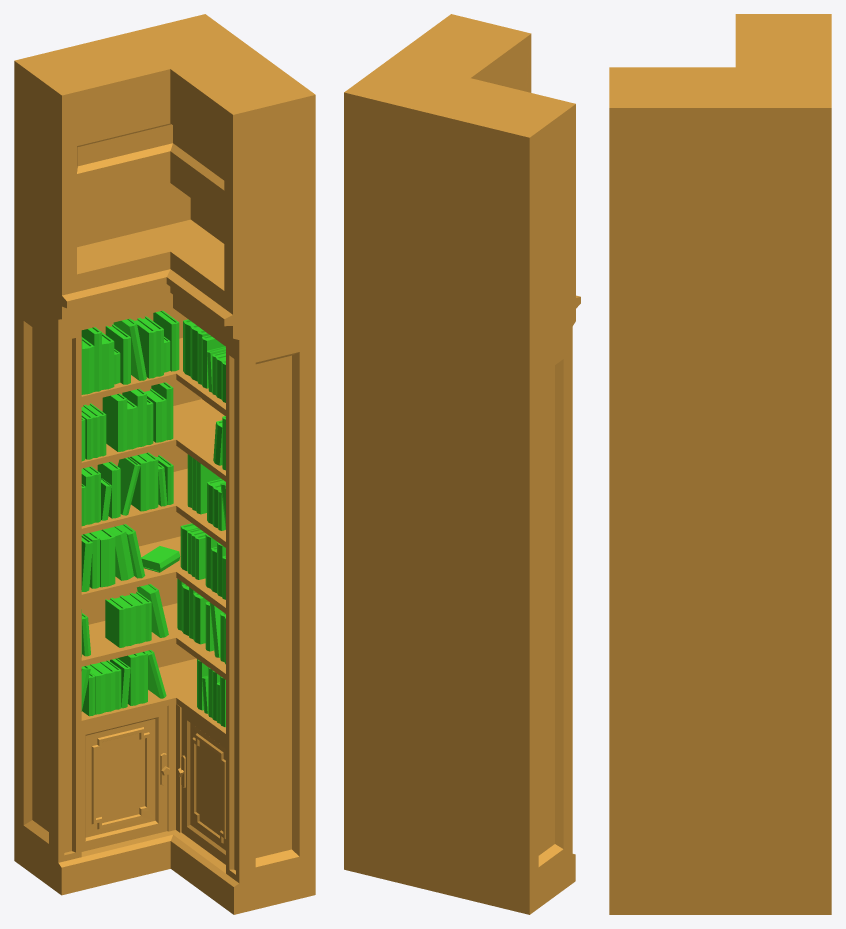
Rendered from SM_Bookcase_Tall_Modular_Cabinet_Filled_Corner_Inner.fbx.
3 views of the same model, side by side, from view 1: azimuth 30°, elevation 25°; view 2: azimuth 150°, elevation 25°; view 3: azimuth 270°, elevation 25° (orthographic). The views are drawn at different scales.
Parts seen in each view (by area): view 1: library-tall-modular-cabinet-filled-corner-inner-base, library-tall-modular-cabinet-filled-corner-inner-door-l, library-tall-modular-cabinet-filled-corner-inner-door-r; view 2: library-tall-modular-cabinet-filled-corner-inner-base; view 3: library-tall-modular-cabinet-filled-corner-inner-base.
Boxes of the visible parts, x1,y1,x2,y2 form: library-tall-modular-cabinet-filled-corner-inner-base: (14,14,315,914); library-tall-modular-cabinet-filled-corner-inner-door-l: (81,706,169,851); library-tall-modular-cabinet-filled-corner-inner-door-r: (176,708,225,864); library-tall-modular-cabinet-filled-corner-inner-base: (344,14,580,914); library-tall-modular-cabinet-filled-corner-inner-base: (609,14,831,914).
Bounding box in the file's own units: 1 × 4 × 1.
